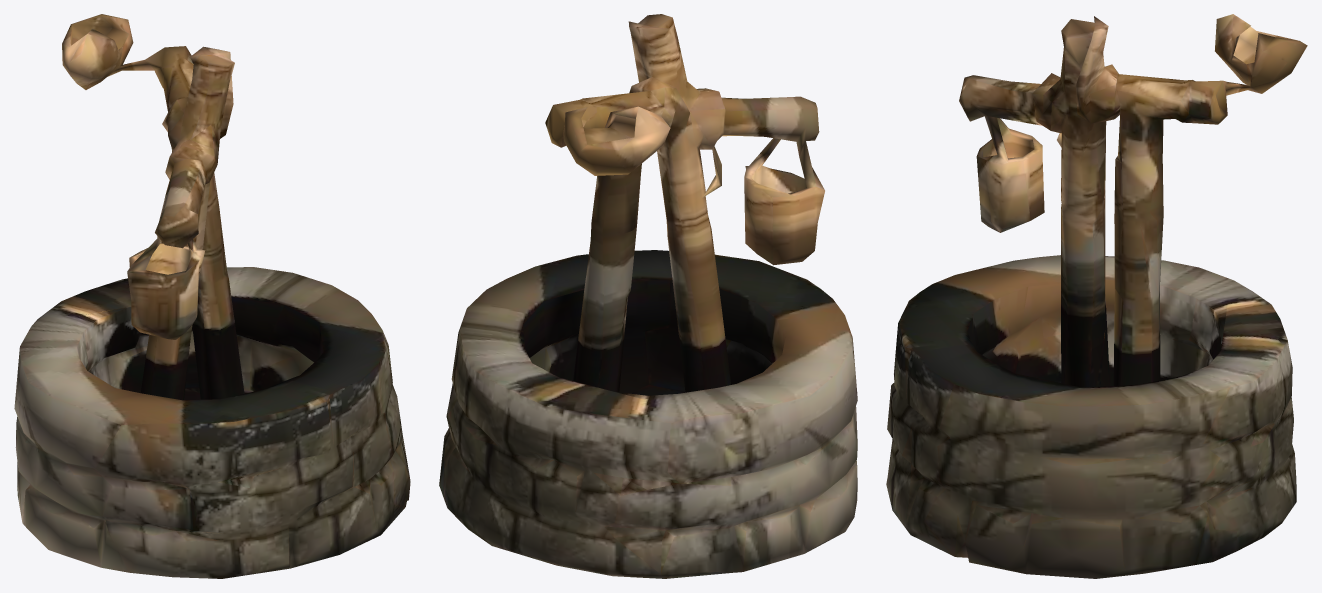
Rendered from toad-prop-well.glb.
The picture shows the model from 3 angles, left to right: view 1: azimuth 30°, elevation 25°; view 2: azimuth 150°, elevation 25°; view 3: azimuth 270°, elevation 25°; orthographic projection. The views are drawn at different scales.
Parts seen in each view (by area): view 1: world; view 2: world; view 3: world.
Part boxes in pixels (<box>): world: <box>14,14,410,578</box>; world: <box>439,14,857,578</box>; world: <box>886,14,1307,578</box>.
Size of the model in its own units: 0.1126 by 0.14 by 0.1129.
1 material, 1 textured.
